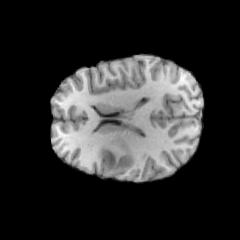glioma: (96, 139, 134, 175)
